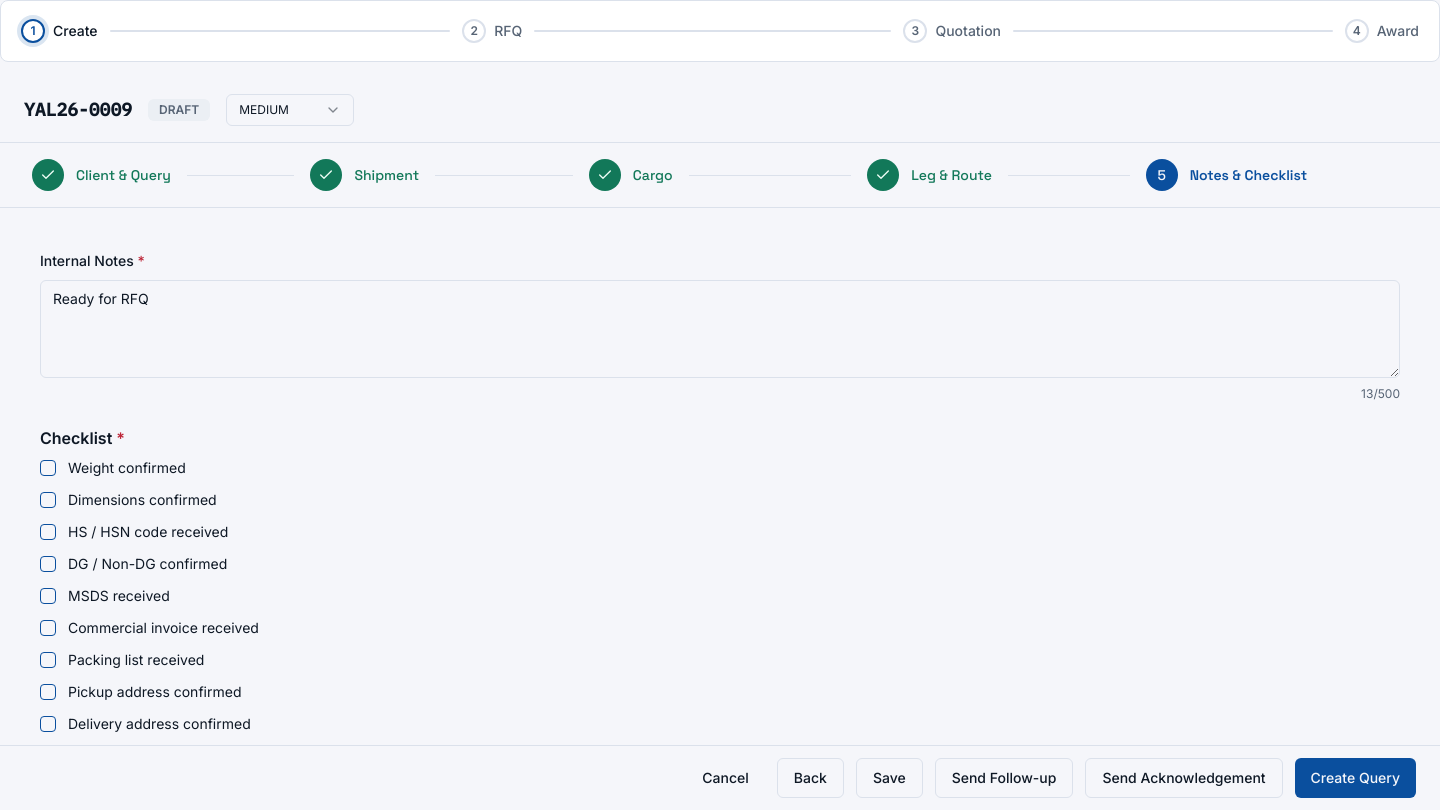
Test: QueryWizardPage › Create Query blocks with F6 when a package is dangerous-goods without an MSDS (per-package now)
Click the button "Create Query": (1355,778) x1=1295 y1=758 x2=1416 y2=798
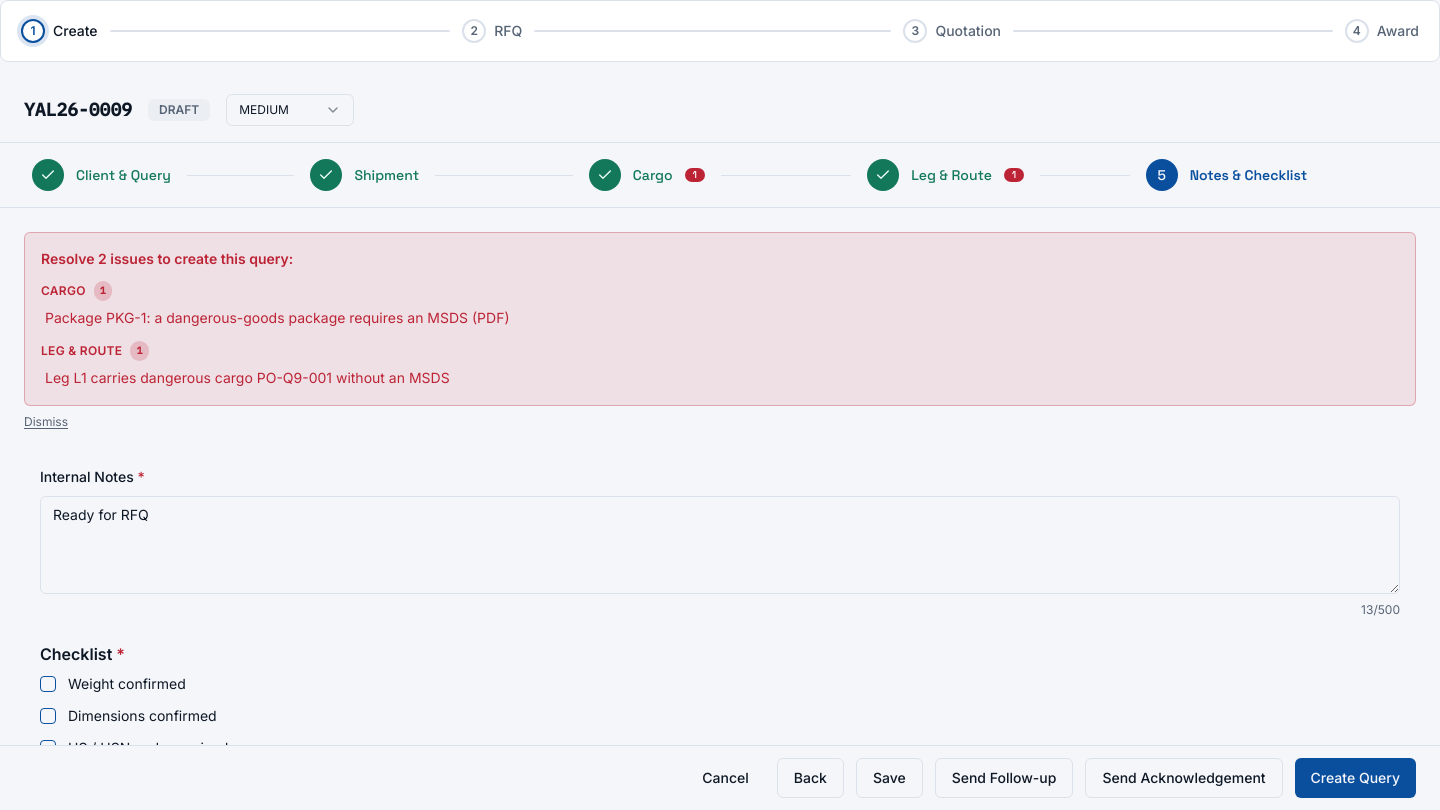
expect the text "DRAFT" is shown: met, box x1=148 y1=99 x2=210 y2=121
expect the button "dangerous-goods package requires an MSDS" is shown: met, box x1=45 y1=308 x2=510 y2=328
